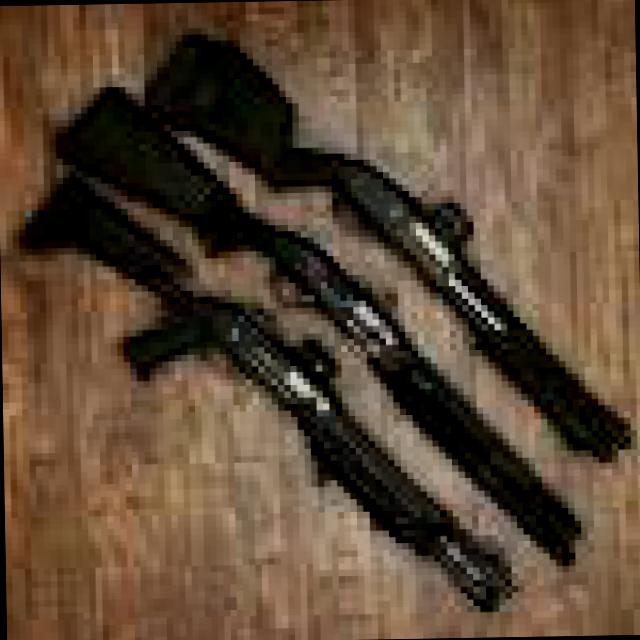long weapon: (59, 80, 585, 565), (128, 4, 640, 482), (7, 175, 512, 637)
